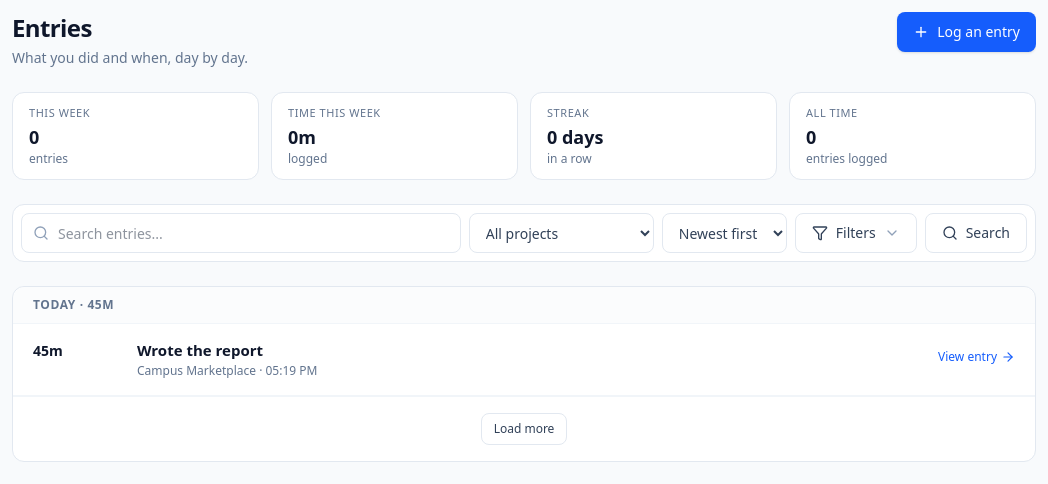
EntriesPage — shell and loading › offers to load more when there may be more entries, and fetches the next page
This screenshot has width=1048, height=484.
Click the button "Load more": (524, 429) 481,413 -> 567,445
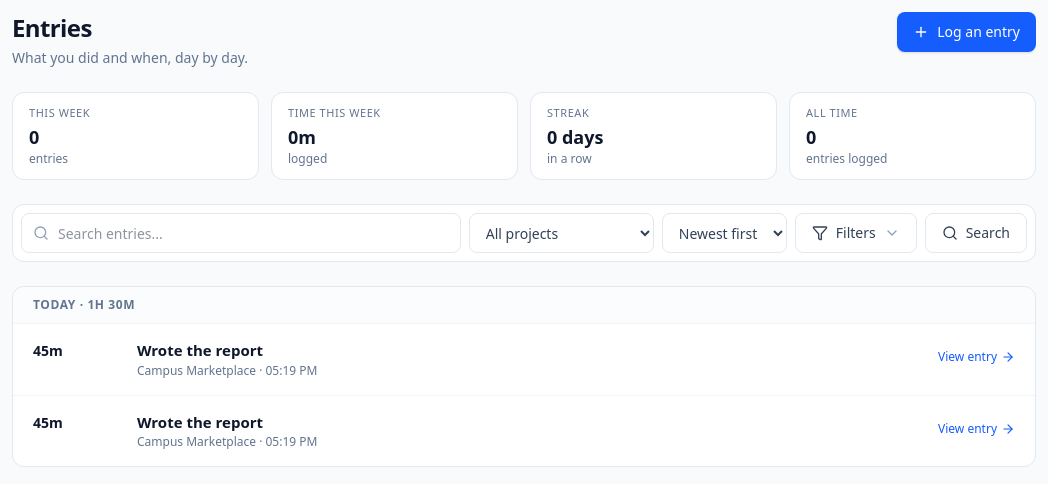
Check: the button "Load more" is gone
